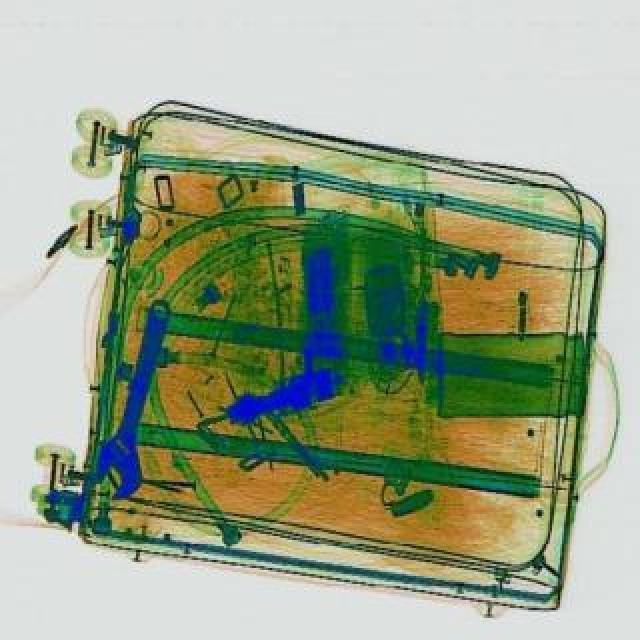scissors: (88, 290, 184, 502)
